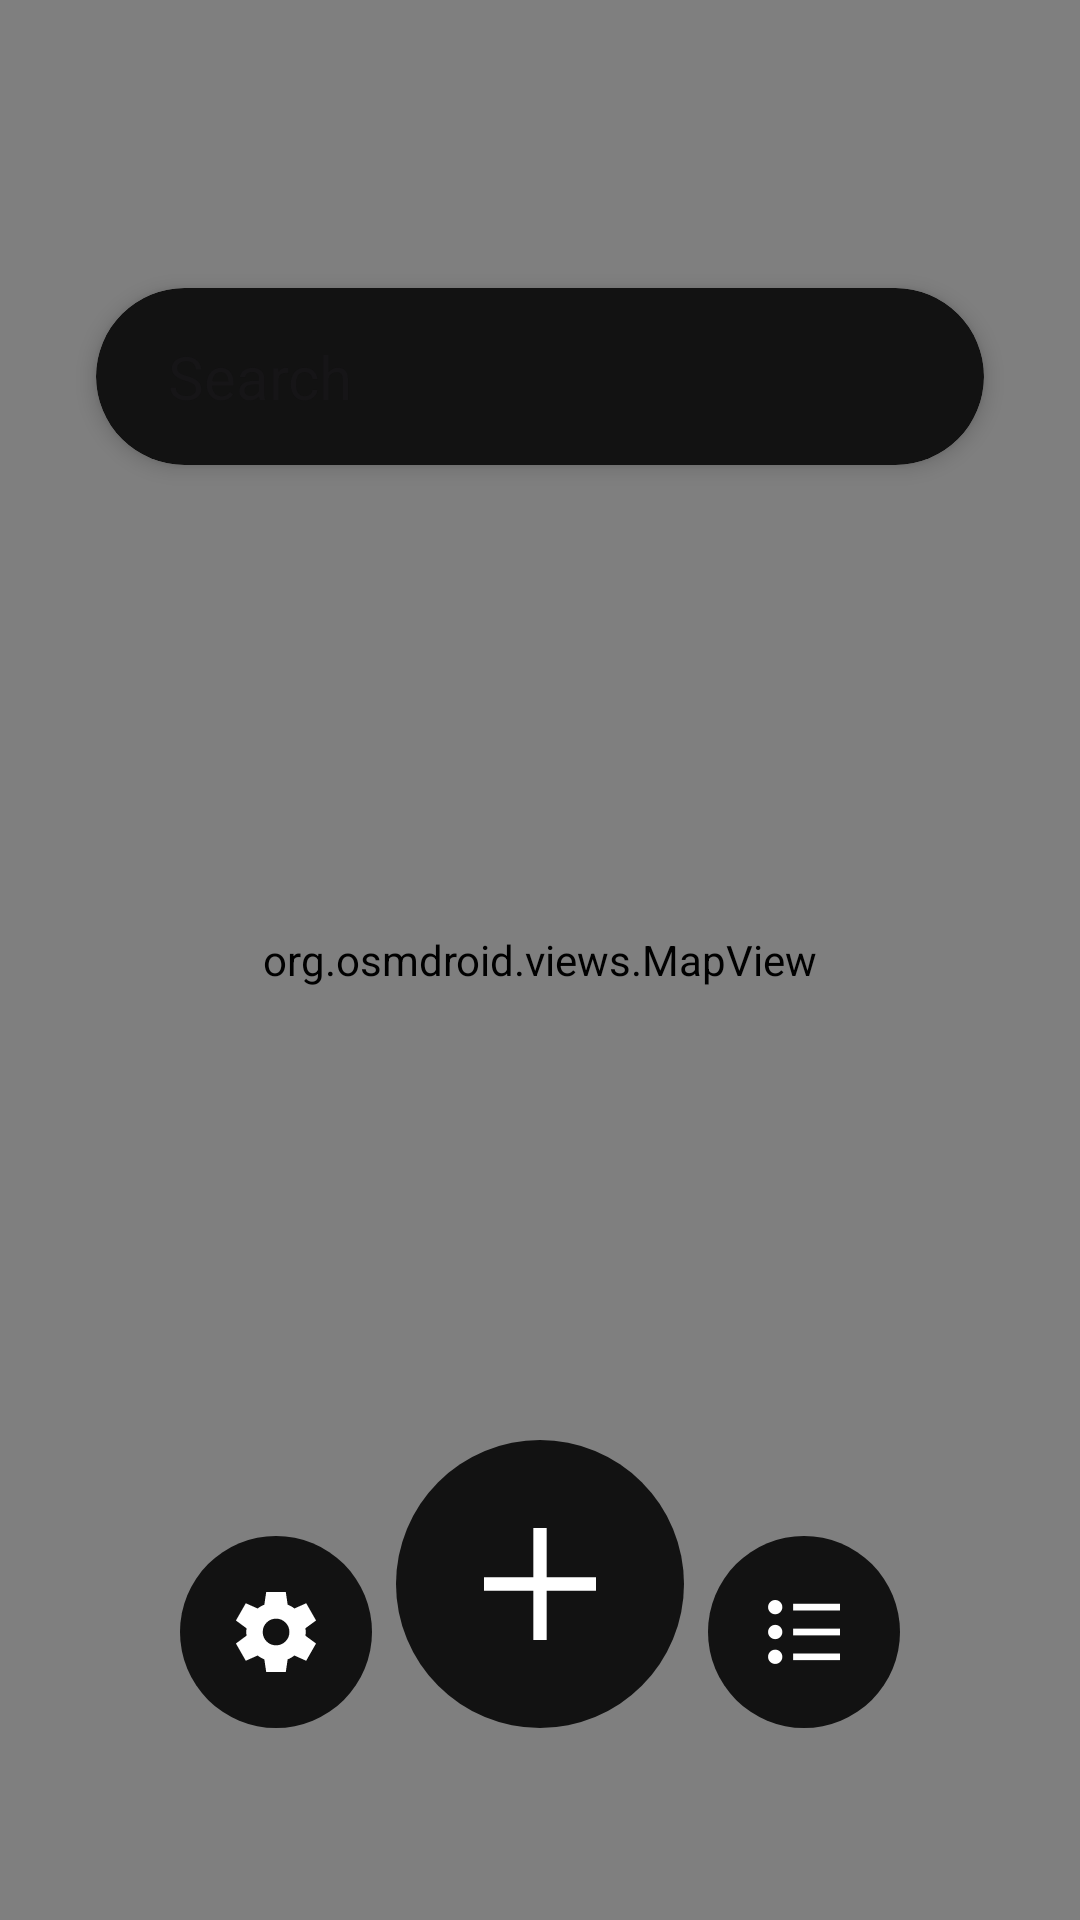

Point at icon controls on the screen. Image size 1080 × 1920, points as point (x, y).
add button icon: point (540, 1584)
playlist list button icon: point (804, 1632)
settings button icon: point (276, 1632)
